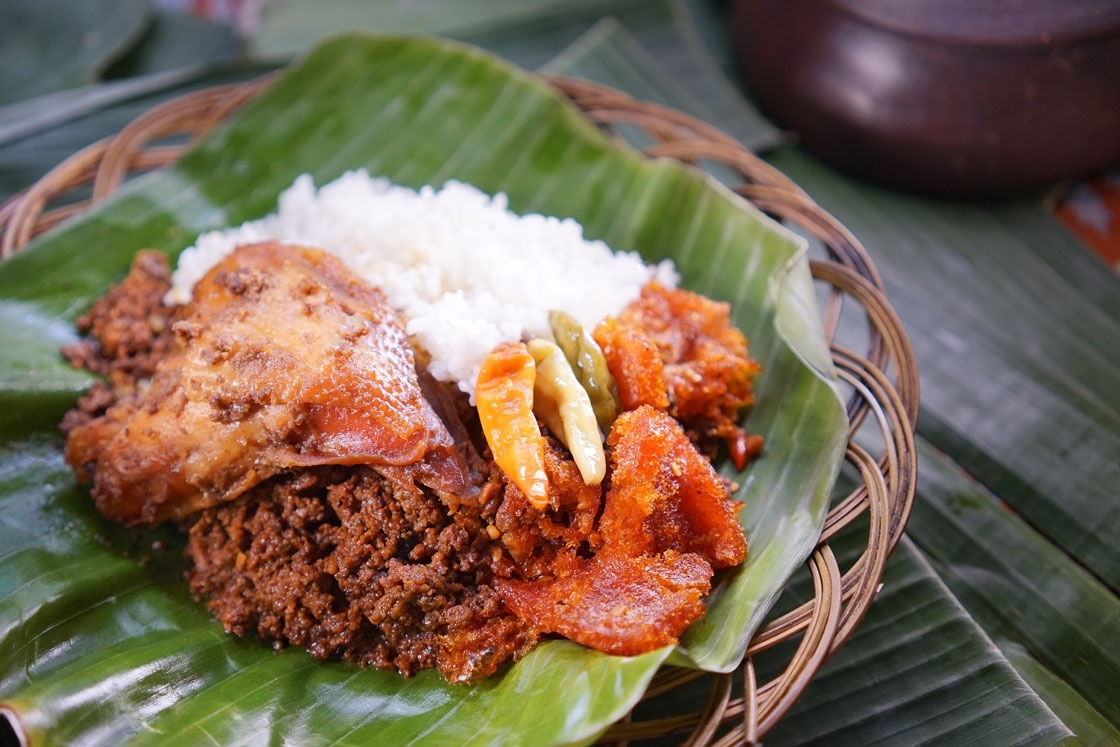gudeg: (61, 170, 764, 688)
